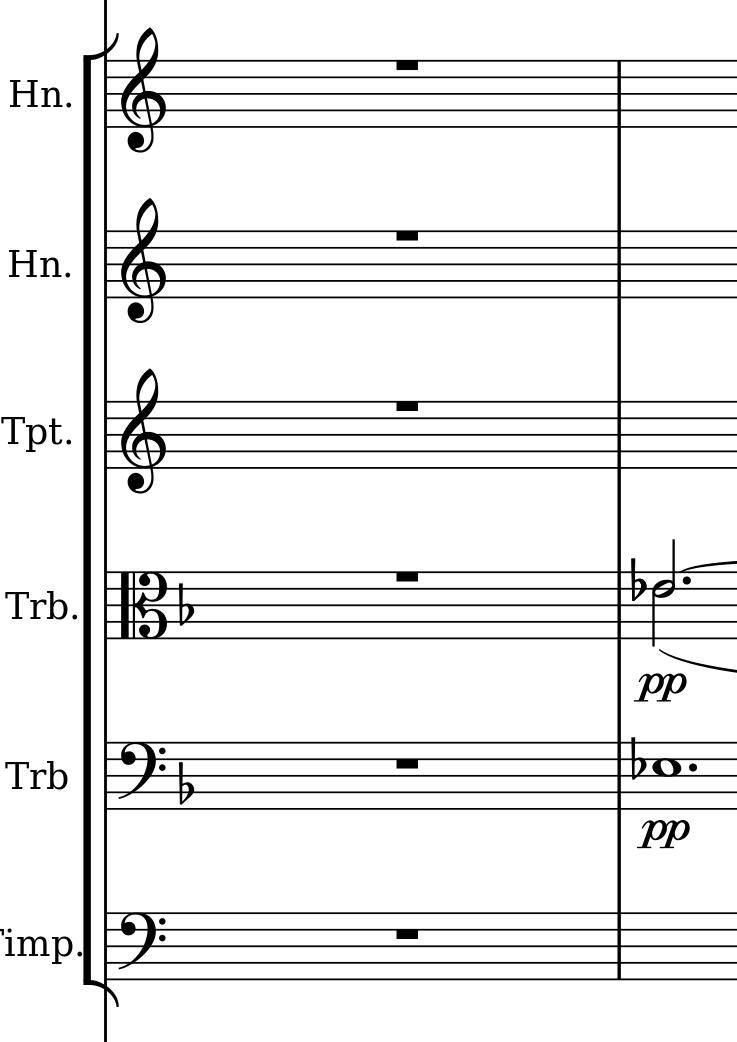1_5: (652, 738, 680, 809)
Bracke: (80, 31, 119, 1008)
Cclef: (115, 570, 168, 638)
Fclef: (116, 913, 169, 982), (117, 741, 165, 813)
Flat: (175, 581, 204, 632), (630, 556, 651, 606), (176, 754, 194, 809), (628, 734, 648, 779)
Gclef: (117, 196, 173, 324), (118, 364, 168, 496), (121, 25, 170, 156)
Hn: (6, 243, 60, 284), (10, 78, 65, 113)
Rests1: (389, 925, 424, 946), (391, 54, 424, 75), (393, 752, 421, 775), (391, 224, 423, 244), (392, 395, 422, 415), (391, 567, 423, 584)
Single_barline: (608, 402, 628, 468), (609, 231, 628, 297), (608, 61, 627, 126), (610, 572, 628, 640), (98, 742, 116, 809), (98, 572, 116, 639), (609, 913, 627, 980), (610, 743, 628, 809), (100, 59, 117, 128), (99, 401, 116, 469), (99, 231, 115, 297), (99, 913, 115, 978)
Tpt: (1, 412, 63, 453)
Trb: (4, 589, 70, 621), (4, 761, 71, 791)
dot: (680, 574, 693, 589), (685, 761, 697, 774)
pp: (635, 670, 692, 709), (638, 815, 688, 852)
